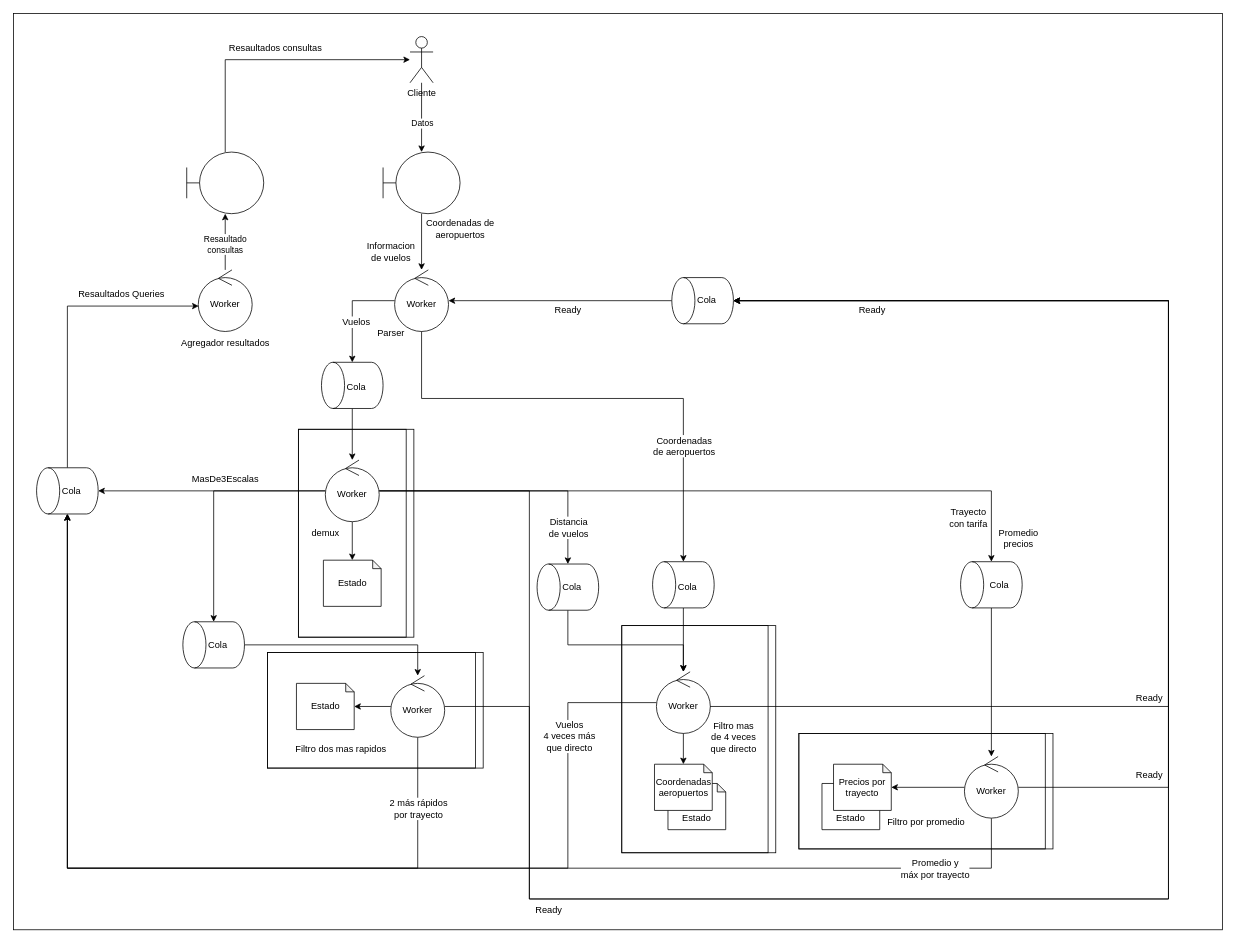
The diagram is 1236 pixels wide and 943 high, and some of its shapes have lost their labels. The shapes that lost their labels are listed below. From the top down, each one's centre as x and y in pixels, then its label:
At pixel 225 182: "Conexion Resultados".
At pixel 421 182: "Conexion Datos".
